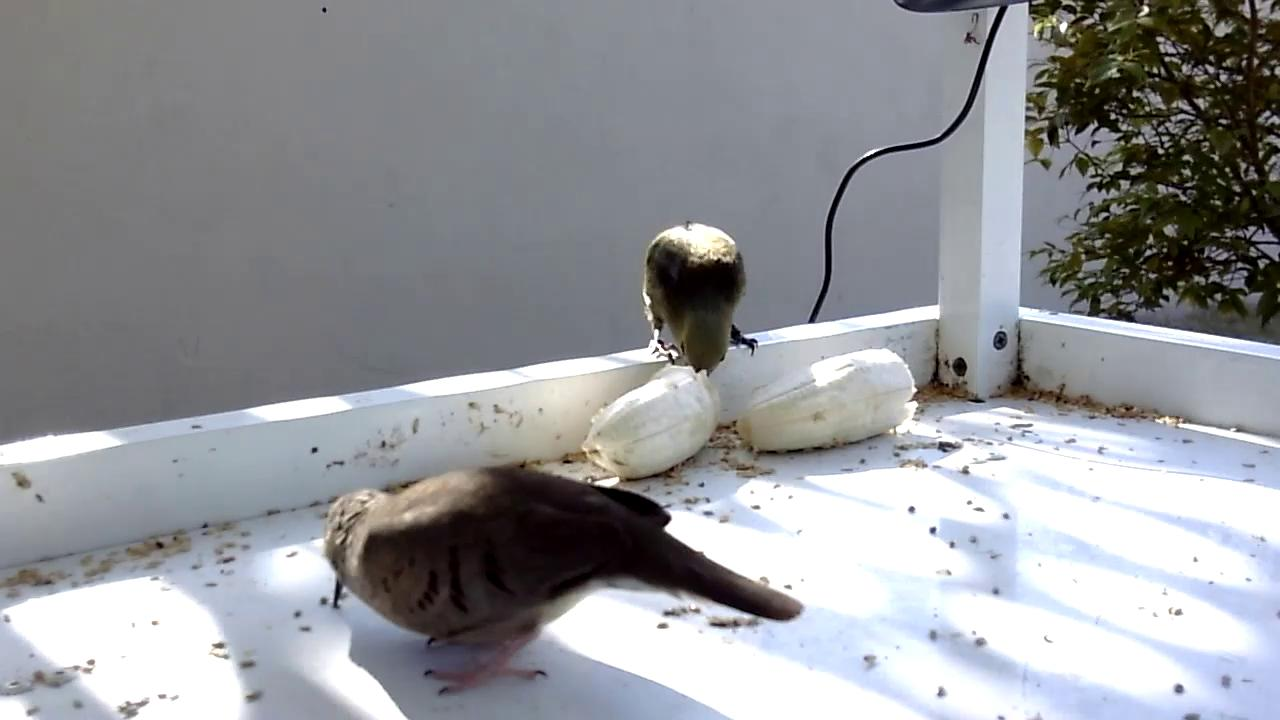rolinha: (325, 463, 806, 704)
sanhaco_do_coqueiro: (643, 219, 761, 381)
